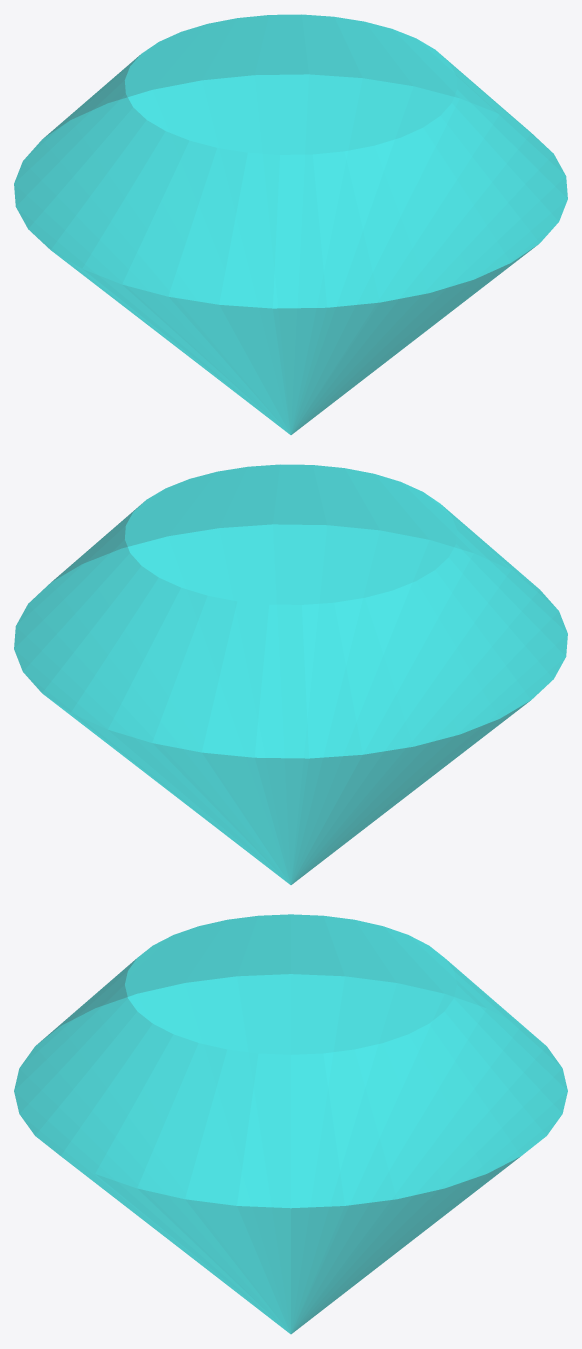
Rendered from diamond.gltf.
3 renders of one model, top to bottom at view 1: azimuth 30°, elevation 25°; view 2: azimuth 150°, elevation 25°; view 3: azimuth 270°, elevation 25°, orthographic.
Parts seen in each view (by area): view 1: Diamond; view 2: Diamond; view 3: Diamond.
Boxes of the visible parts, <box> form: Diamond: <box>14,14,567,434</box>; Diamond: <box>14,464,567,884</box>; Diamond: <box>14,914,567,1334</box>.
Size of the model in its own units: 0.8248 by 0.575 by 0.8248.
